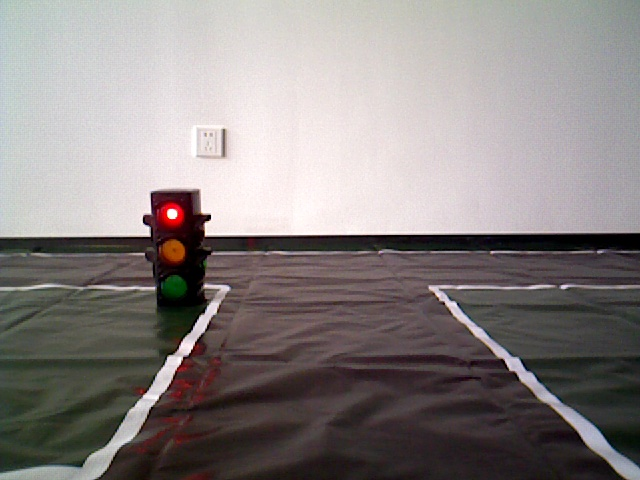red: (151, 192, 202, 307)
